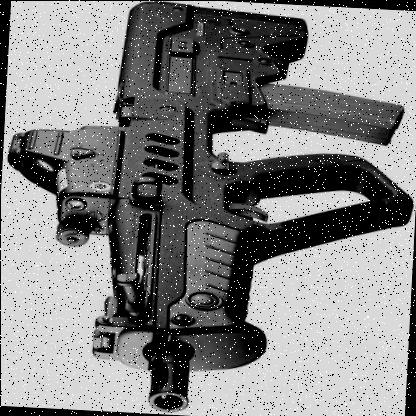rifle: (19, 3, 401, 416)
